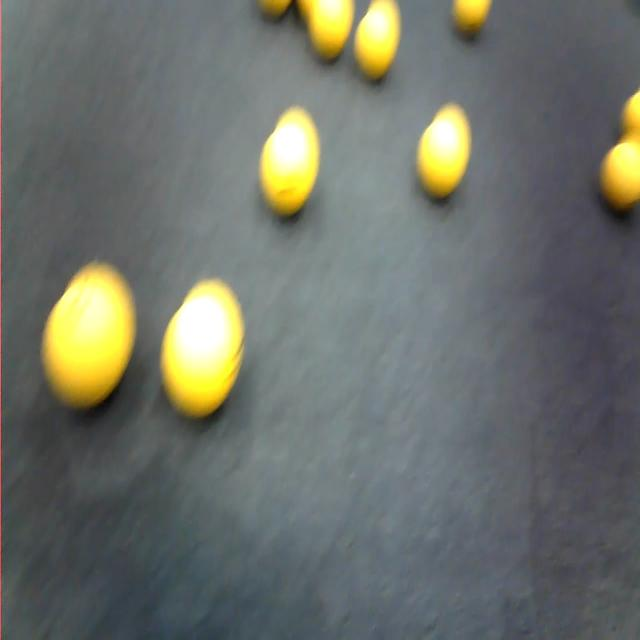fuel: (35, 243, 142, 417), (157, 268, 259, 426), (412, 88, 477, 204), (260, 101, 321, 216), (351, 0, 409, 87), (587, 132, 640, 216), (610, 78, 640, 149)
